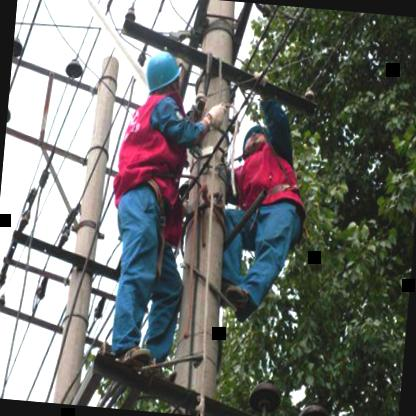helmet: (138, 46, 186, 104), (239, 116, 272, 160)
